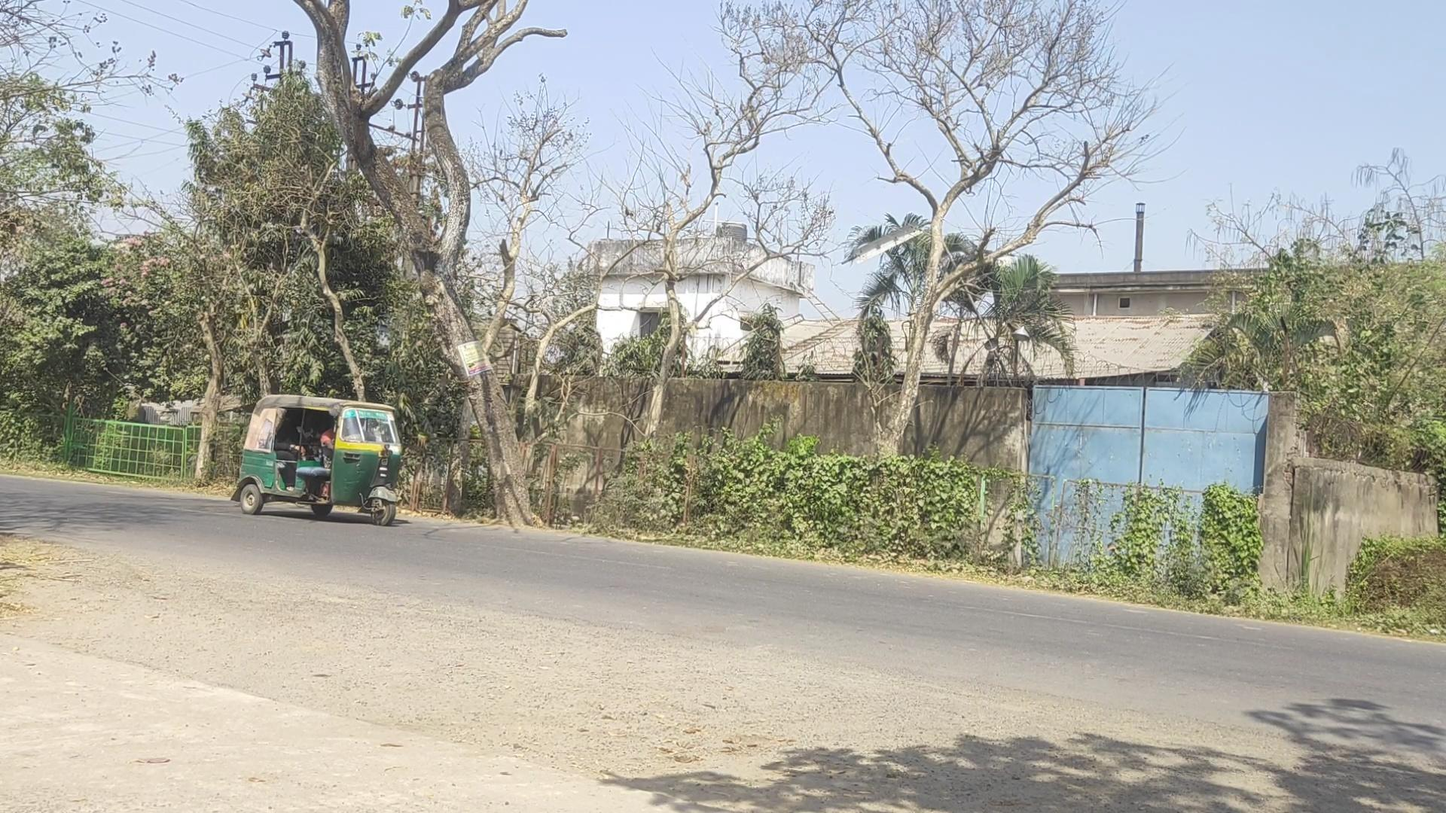Auto: (230, 394, 403, 526)
